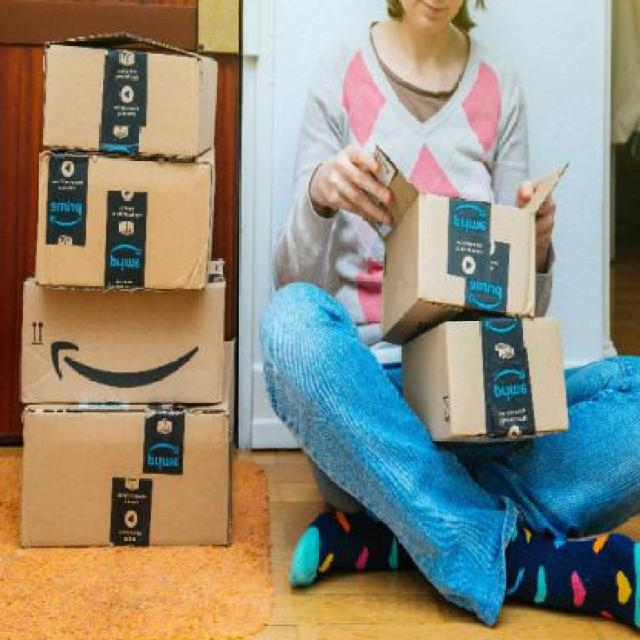cardboxes: (18, 398, 238, 548), (22, 275, 226, 413), (37, 150, 218, 288), (380, 190, 534, 348), (38, 33, 222, 158), (406, 318, 572, 453)
